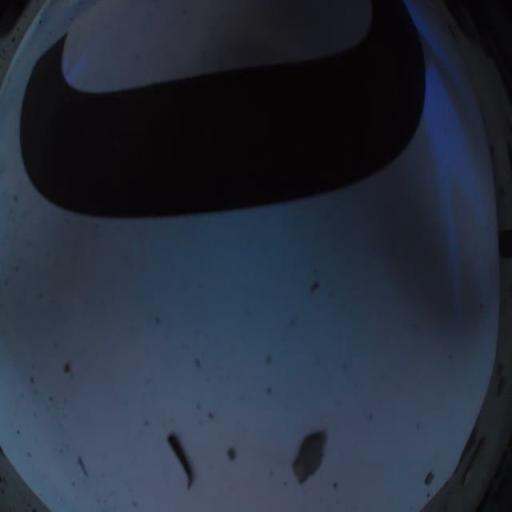J: (18, 3, 456, 246)
